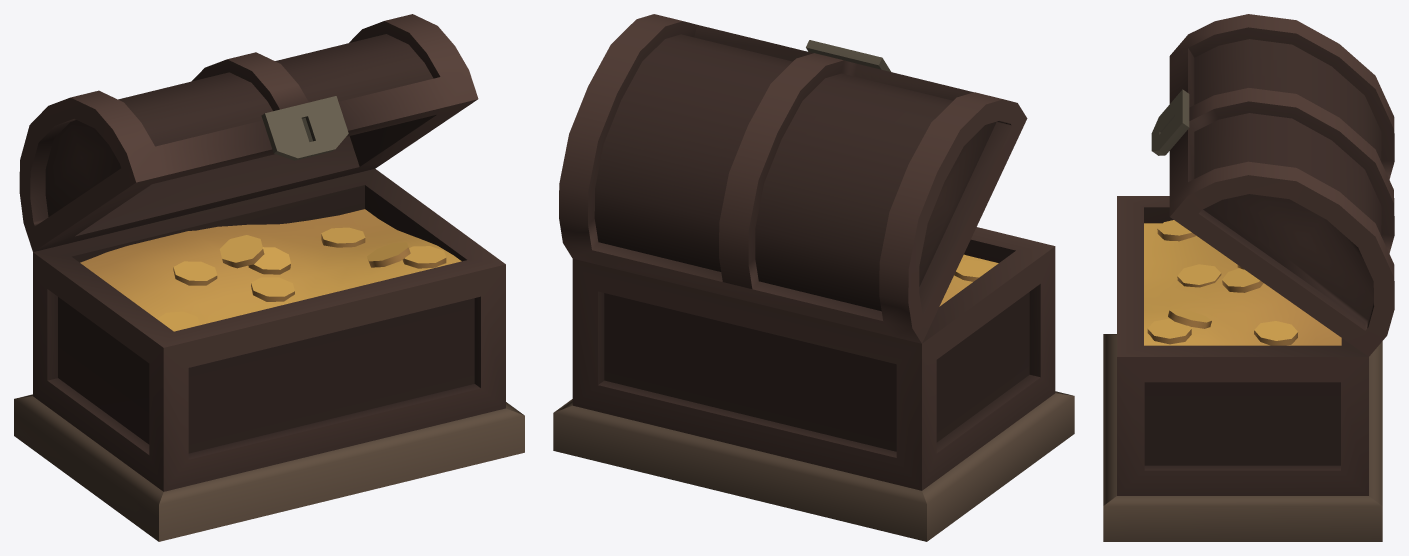
The model's file is human-containers-treasure-chest_v1.glb.
3 renders of one model, left to right at view 1: azimuth 30°, elevation 25°; view 2: azimuth 150°, elevation 25°; view 3: azimuth 270°, elevation 25°, orthographic. The views are drawn at different scales.
Parts seen in each view (by area): view 1: Treasure Chest.001, Treasure Chest; view 2: Treasure Chest.001, Treasure Chest; view 3: Treasure Chest.001, Treasure Chest.
Part boxes in pixels (x1,y1,x2,y2): Treasure Chest.001: (14, 14, 524, 541); Treasure Chest: (80, 209, 461, 331); Treasure Chest.001: (553, 14, 1074, 541); Treasure Chest: (939, 254, 998, 306); Treasure Chest.001: (1103, 14, 1394, 541); Treasure Chest: (1144, 220, 1341, 345).
Bounding box in the file's own units: 0.6 × 0.5868 × 0.4291.
